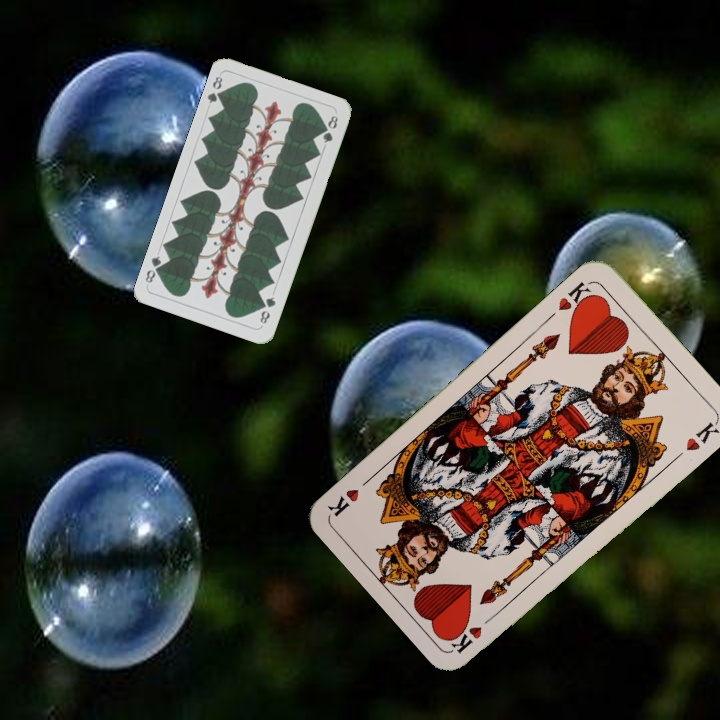G8: (203, 72, 227, 106), (256, 292, 278, 326)
HK: (448, 609, 500, 656), (554, 277, 598, 318)
